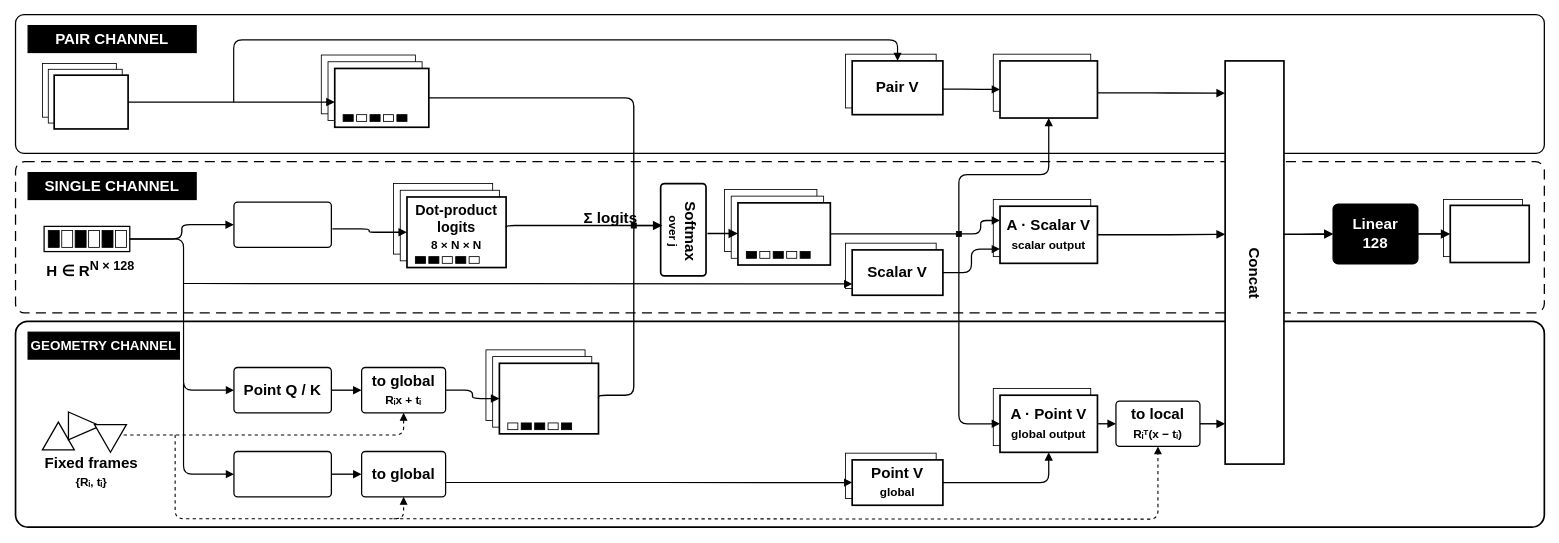
The diagram is 1559 pixels wide and 543 high, and some of its shapes have lost their labels. The shapes that lost their labels are listed below. From the top down, each one's centre as x and y in pixels, then its label:
At (x=91, y=101): "Pᵢⱼ N × N × 48".
At (x=381, y=97): "Pair bias 8 × N × N".
At (x=1048, y=89): "A · Pair V pair output".
At (x=282, y=224): "Scalar Q / K".
At (x=784, y=233): "Attention A 8 × N × N".
At (x=1489, y=233): "ΔH IPA N × 128".
At (x=548, y=398): "Distance logits 8 × N × N".
At (x=282, y=473): "Point V".
